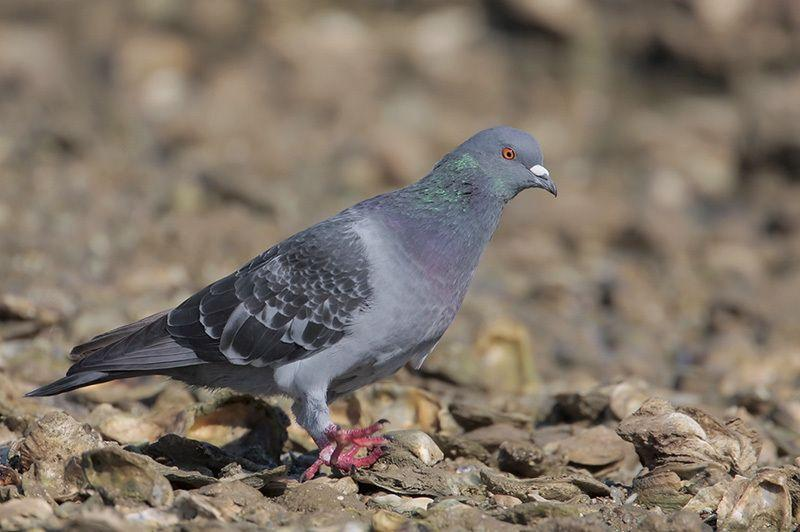Flying Rat: (65, 124, 554, 487)
